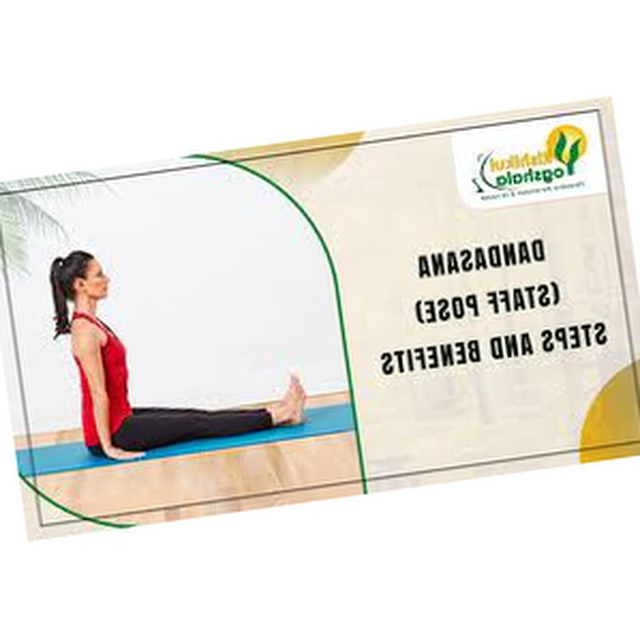Staff_Pose: (48, 250, 308, 461)
